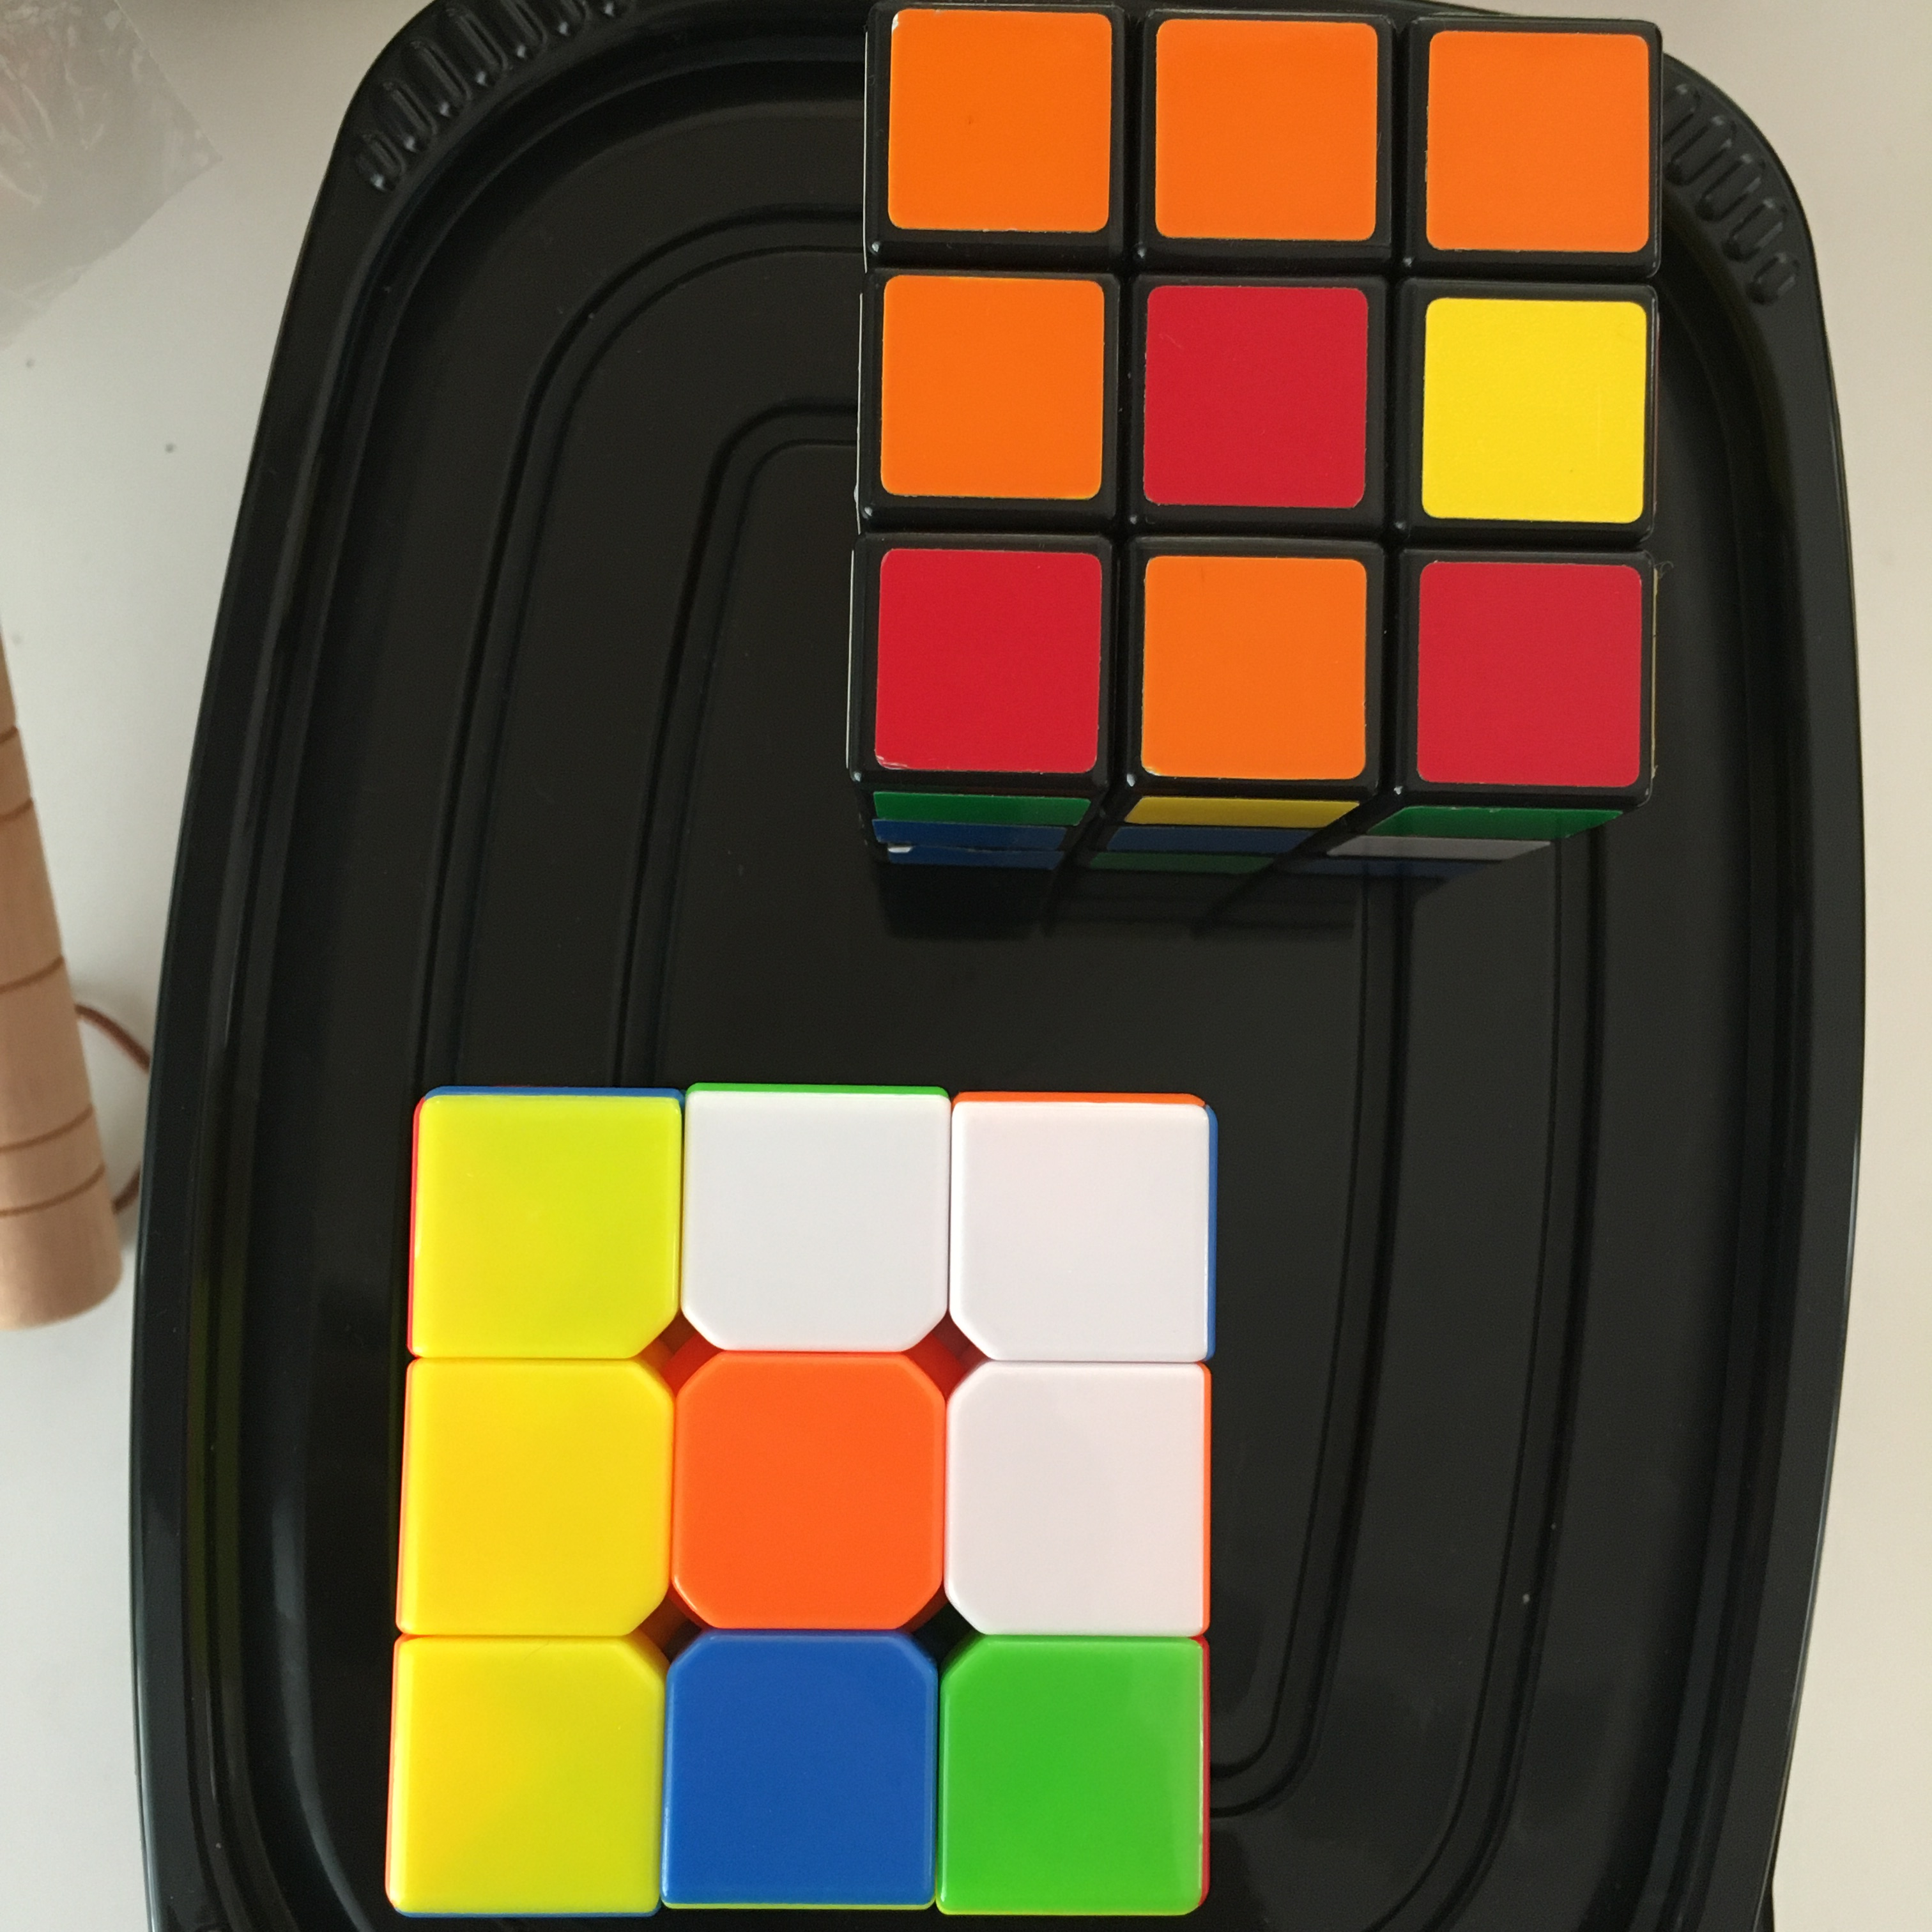face: (382, 1083, 1200, 1917), (862, 11, 1647, 808)
